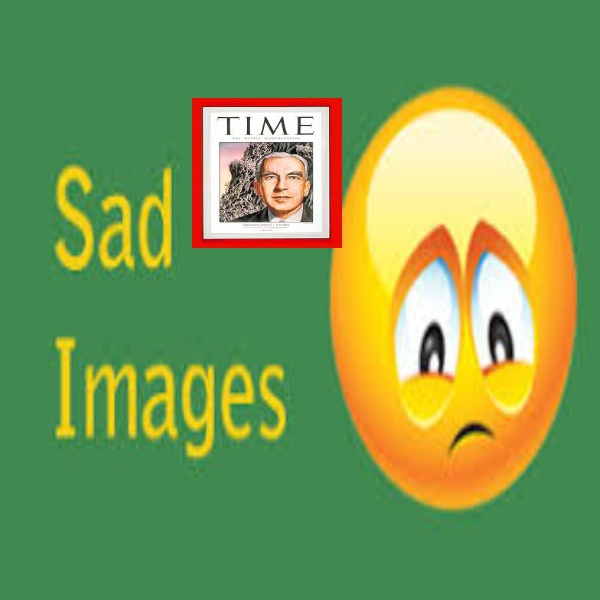time_cover: (182, 87, 343, 242)
